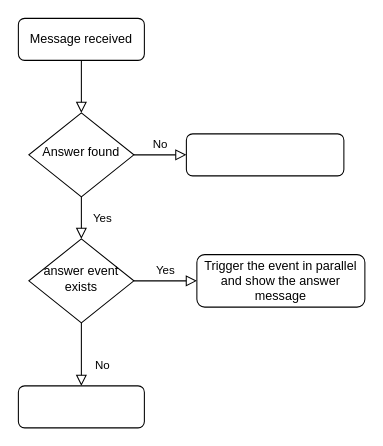
The diagram is 383 pixels wide and 446 high, and some of its shapes have lost their labels. Each missing label, with the centre of its shape:
Show "No answer" msg: (264,154)
Show answer without triggering the event: (80,406)
